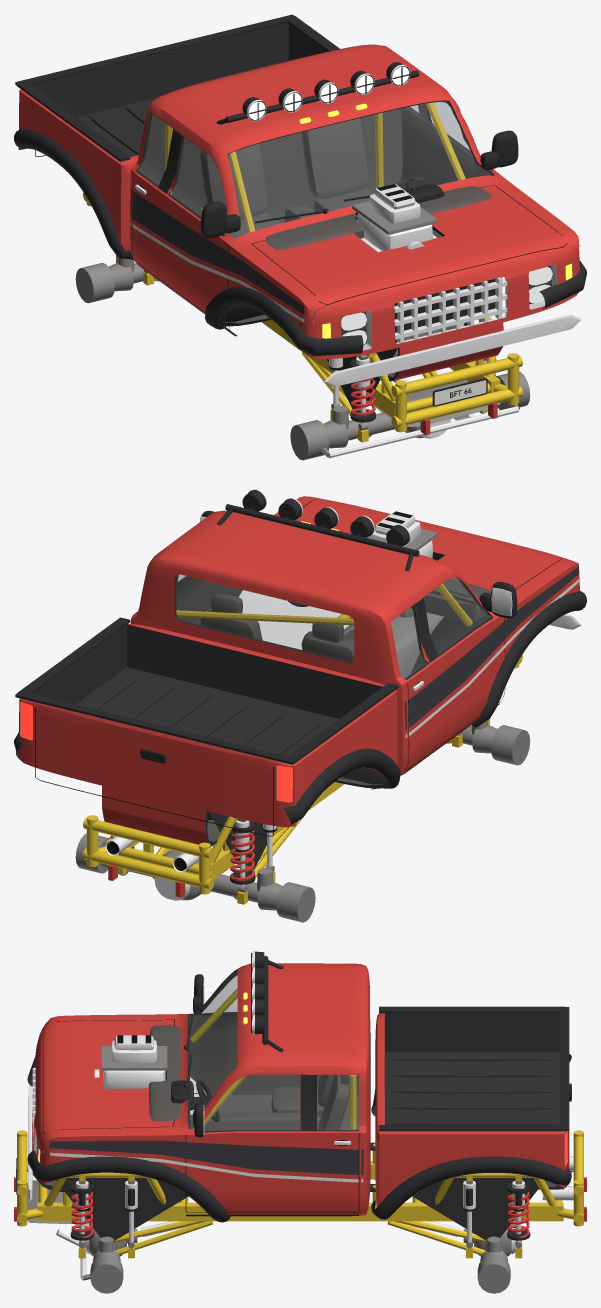
Rendered from monster.glb.
3 renders of one model, top to bottom at view 1: azimuth 30°, elevation 25°; view 2: azimuth 150°, elevation 25°; view 3: azimuth 270°, elevation 25°, orthographic. The views are drawn at different scales.
Visible parts, largest first — view 1: Body, Glass_Front, Axle_F, Glass_F_R, Axle_R, Glass_B_R, Shock_FR_0, Glass_F_L; view 2: Body, Glass_Back, Axle_R, Glass_F_R, Axle_F, Glass_B_R, Shock_RR_0; view 3: Body, Glass_Front, Glass_F_L, Axle_F, Axle_R, Glass_B_L, Shock_RL_0, Shock_FL_0, Shock_FL_1, Shock_RL_1, Glass_F_R.
Boxes of the visible parts, left/top/right/bottom form: Body: left=14, top=14, right=586, bottom=435; Glass_Front: left=227, top=101, right=493, bottom=238; Axle_F: left=290, top=352, right=530, bottom=460; Glass_F_R: left=170, top=137, right=226, bottom=234; Axle_R: left=75, top=255, right=159, bottom=303; Glass_B_R: left=138, top=113, right=172, bottom=185; Shock_FR_0: left=350, top=355, right=375, bottom=430; Glass_F_L: left=430, top=102, right=472, bottom=156; Body: left=14, top=489, right=586, bottom=897; Glass_Back: left=175, top=575, right=353, bottom=661; Axle_R: left=75, top=818, right=315, bottom=922; Glass_F_R: left=424, top=577, right=490, bottom=654; Axle_F: left=446, top=719, right=530, bottom=765; Glass_B_R: left=391, top=606, right=426, bottom=678; Shock_RR_0: left=230, top=819, right=255, bottom=892; Body: left=14, top=951, right=586, bottom=1240; Glass_Front: left=189, top=971, right=237, bottom=1128; Glass_F_L: left=204, top=1075, right=299, bottom=1131; Axle_F: left=56, top=1221, right=213, bottom=1293; Axle_R: left=387, top=1221, right=522, bottom=1293; Glass_B_L: left=317, top=1075, right=358, bottom=1130; Shock_RL_0: left=507, top=1178, right=530, bottom=1248; Shock_FL_0: left=70, top=1178, right=93, bottom=1248; Shock_FL_1: left=124, top=1178, right=138, bottom=1248; Shock_RL_1: left=462, top=1178, right=476, bottom=1248; Glass_F_R: left=202, top=976, right=236, bottom=1013.
Bounding box in the file's own units: 2.81 × 2.51 × 4.9.
